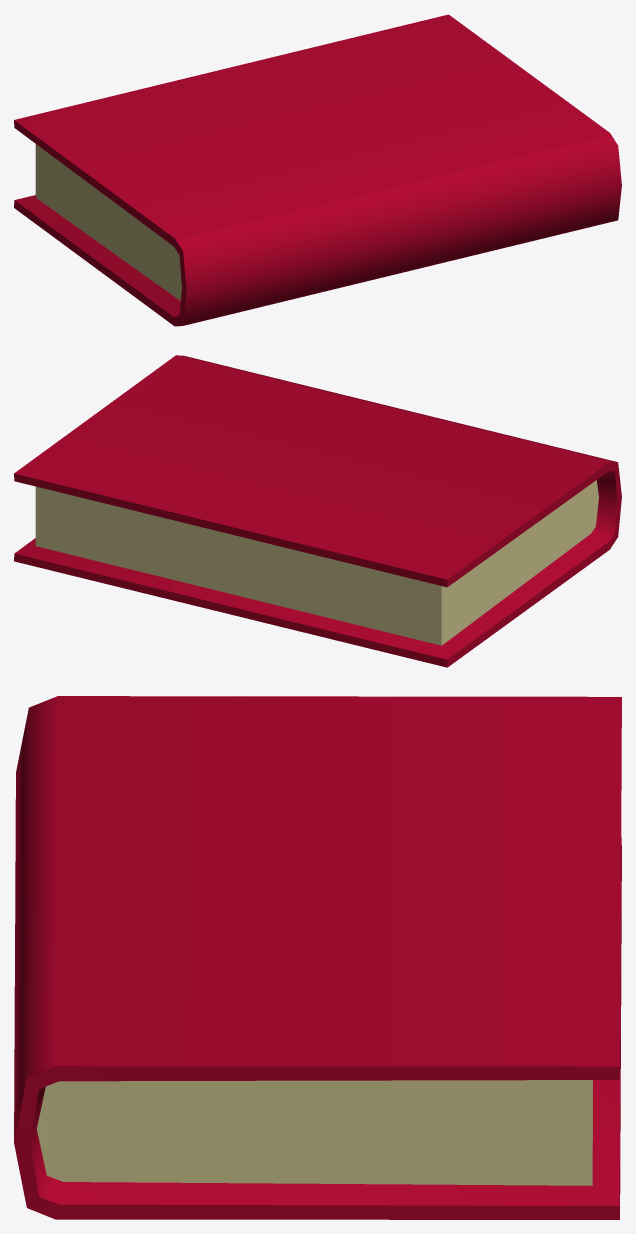
The model's file is Livros.fbx.
3 views of the same model, one above another, from view 1: azimuth 30°, elevation 25°; view 2: azimuth 150°, elevation 25°; view 3: azimuth 270°, elevation 25° (orthographic). The views are drawn at different scales.
Visible parts, largest first — view 1: Livros; view 2: Livros; view 3: Livros.
Boxes of the visible parts, x1,y1,x2,y2 form: Livros: (14,14,621,326); Livros: (14,355,621,667); Livros: (14,696,621,1219).
Size of the model in its own units: 25.27 by 4.88 by 17.53.
